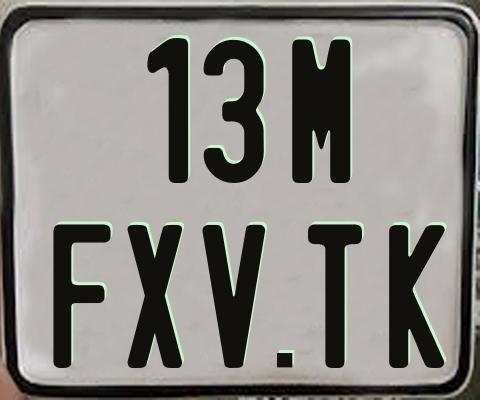1: (147, 37, 192, 185)
3: (200, 39, 264, 187)
F: (51, 221, 111, 369)
K: (388, 223, 449, 371)
M: (292, 37, 356, 186)
T: (306, 222, 363, 369)
V: (199, 222, 267, 369)
X: (124, 222, 180, 370)
